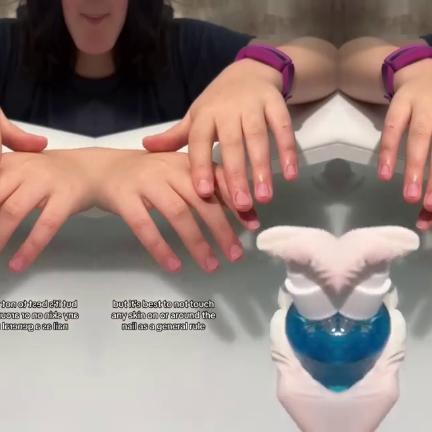Nail: (234, 191, 249, 206), (228, 244, 242, 260), (196, 180, 211, 194), (255, 183, 269, 198), (405, 183, 419, 198), (165, 257, 178, 272), (10, 257, 23, 272), (205, 257, 218, 270), (247, 217, 260, 229), (414, 217, 427, 229), (286, 164, 295, 176), (379, 164, 388, 176), (425, 191, 432, 205)
